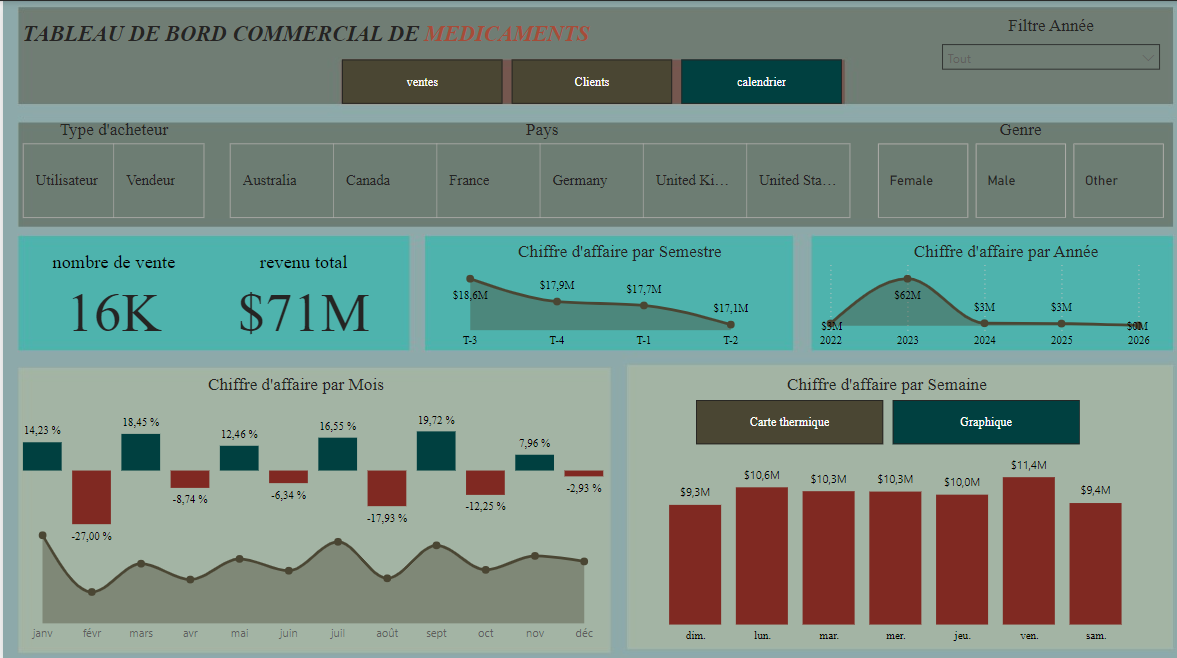

What the dashboard file says about the page in this screenshot:
{"tool":"powerbi","page":{"name":"calendrier","canvas":[1280,720],"ordinal":2},"visuals":[{"type":"cardVisual","fields":{"Data":["_mesures.nombre de vente","_mesures.revenu total"]},"box":[16,256,416,112],"z":0},{"type":"columnChart","title":"graphique","fields":{"Category":["date.JourSemaine"],"Y":["_mesures.revenu total"]},"box":[688,480,560,224],"z":0,"group":"g1"},{"type":"lineChart","fields":{"Y":["_mesures.revenu total"],"Category":["date.Année"]},"box":[880,272,368,112],"z":1000},{"type":"lineChart","fields":{"Category":["date.Trimestre"],"Y":["_mesures.revenu total"]},"box":[464,272,368,112],"z":2000},{"type":"lineChart","fields":{"Y":["_mesures.revenu total"],"Category":["date.Mois"]},"box":[16,560,640,144],"z":3000},{"type":"columnChart","fields":{"Category":["date.Mois"],"Y":["_mesures.variation d'un mois à un autre"]},"box":[16,432,640,160],"z":4000},{"type":"textbox","title":"titre","box":[832,400,256,32],"z":5000},{"type":"group","id":"g1","title":"Groupe 1","box":[672,480,608,224],"z":6000},{"type":"bookmarkNavigator","box":[752,432,416,48],"z":7000},{"type":"advancedSlicerVisual","title":"Pays","fields":{"Values":["CustomerTable.Country"]},"box":[240,128,688,112],"z":8000},{"type":"advancedSlicerVisual","title":"Genre","fields":{"Values":["CustomerTable.Gender"]},"box":[944,128,320,112],"z":9000},{"type":"advancedSlicerVisual","title":"Type d''acheteur","fields":{"Values":["FactTable.BuyerType"]},"box":[16,128,208,112],"z":10000},{"type":"textbox","title":"titre","box":[192,400,256,32],"z":11000},{"type":"textbox","box":[16,16,704,48],"z":12000},{"type":"slicer","title":"Filtre Année","fields":{"Values":["date.Année"]},"box":[1008,16,256,64],"z":13000},{"type":"textbox","title":"titre","box":[544,256,256,32],"z":14000},{"type":"textbox","title":"titre","box":[960,256,256,32],"z":15000},{"type":"pageNavigator","box":[368,64,544,48],"z":15001}]}

Visuals, with their boxes in screenshot pixels (x1, y1, x2, y2), scaled from the page's 1280x720 canvas onto the 1177x658 screenshot:
cardVisual - _mesures.nombre de vente x _mesures.revenu total: {"x1": 15, "y1": 234, "x2": 397, "y2": 336}
"graphique" columnChart: {"x1": 633, "y1": 439, "x2": 1148, "y2": 643}
lineChart - _mesures.revenu total x date.Année: {"x1": 809, "y1": 249, "x2": 1148, "y2": 351}
lineChart - date.Trimestre x _mesures.revenu total: {"x1": 427, "y1": 249, "x2": 765, "y2": 351}
lineChart - _mesures.revenu total x date.Mois: {"x1": 15, "y1": 512, "x2": 603, "y2": 643}
columnChart - date.Mois x _mesures.variation d'un mois à un autre: {"x1": 15, "y1": 395, "x2": 603, "y2": 541}
"titre" textbox: {"x1": 765, "y1": 366, "x2": 1000, "y2": 395}
"Groupe 1" group: {"x1": 618, "y1": 439, "x2": 1176, "y2": 643}
bookmarkNavigator: {"x1": 691, "y1": 395, "x2": 1074, "y2": 439}
"Pays" advancedSlicerVisual: {"x1": 221, "y1": 117, "x2": 853, "y2": 219}
"Genre" advancedSlicerVisual: {"x1": 868, "y1": 117, "x2": 1162, "y2": 219}
"Type d''acheteur" advancedSlicerVisual: {"x1": 15, "y1": 117, "x2": 206, "y2": 219}
"titre" textbox: {"x1": 177, "y1": 366, "x2": 412, "y2": 395}
textbox: {"x1": 15, "y1": 15, "x2": 662, "y2": 58}
"Filtre Année" slicer: {"x1": 927, "y1": 15, "x2": 1162, "y2": 73}
"titre" textbox: {"x1": 500, "y1": 234, "x2": 736, "y2": 263}
"titre" textbox: {"x1": 883, "y1": 234, "x2": 1118, "y2": 263}
pageNavigator: {"x1": 338, "y1": 58, "x2": 839, "y2": 102}
